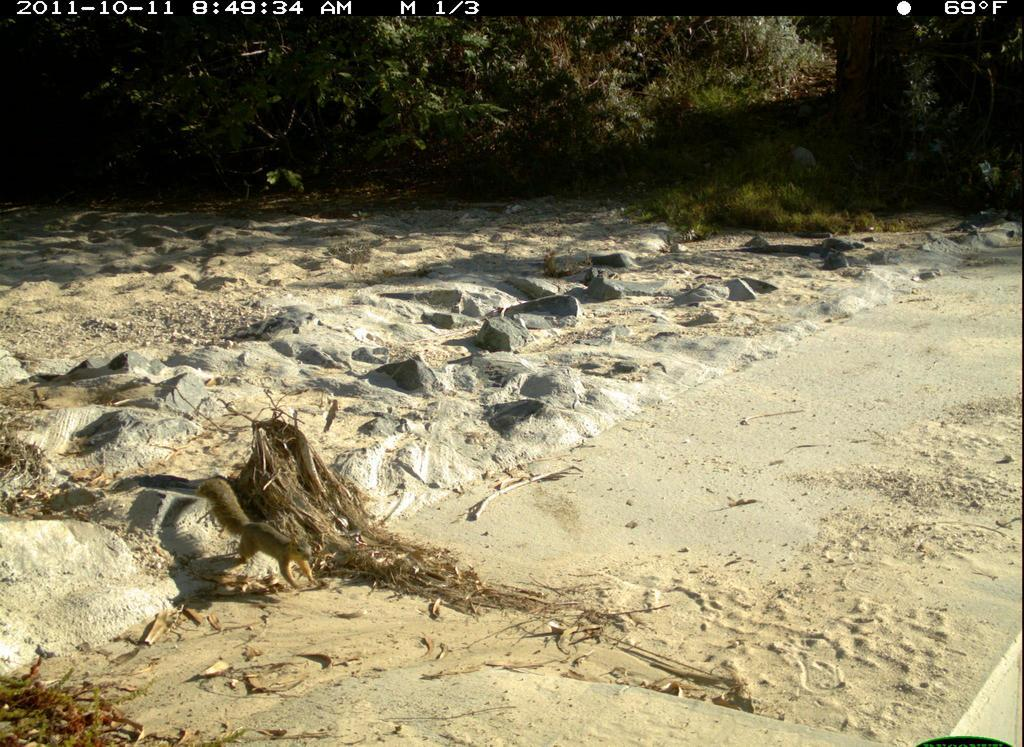squirrel: (196, 466, 340, 619)
